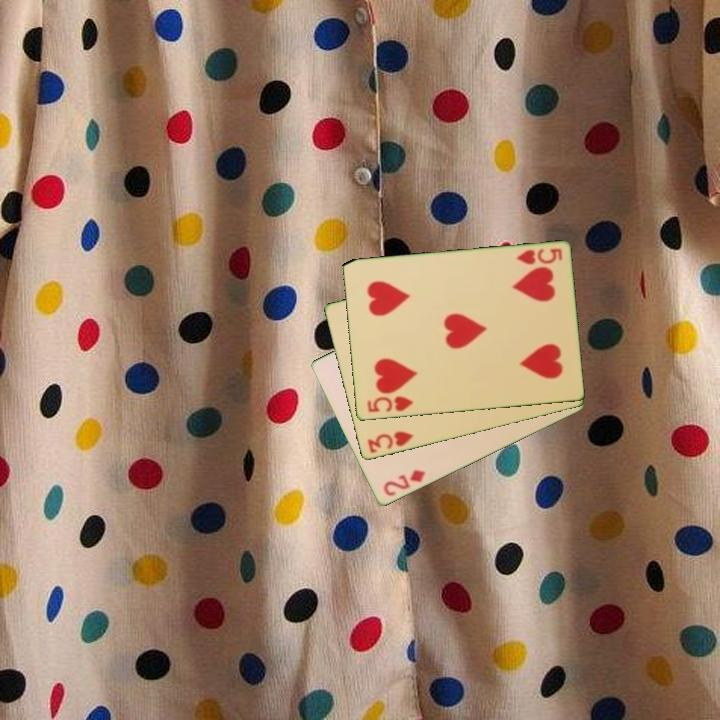2d: (380, 466, 428, 499)
3h: (364, 428, 416, 456)
5h: (513, 245, 565, 268), (364, 393, 416, 415)
